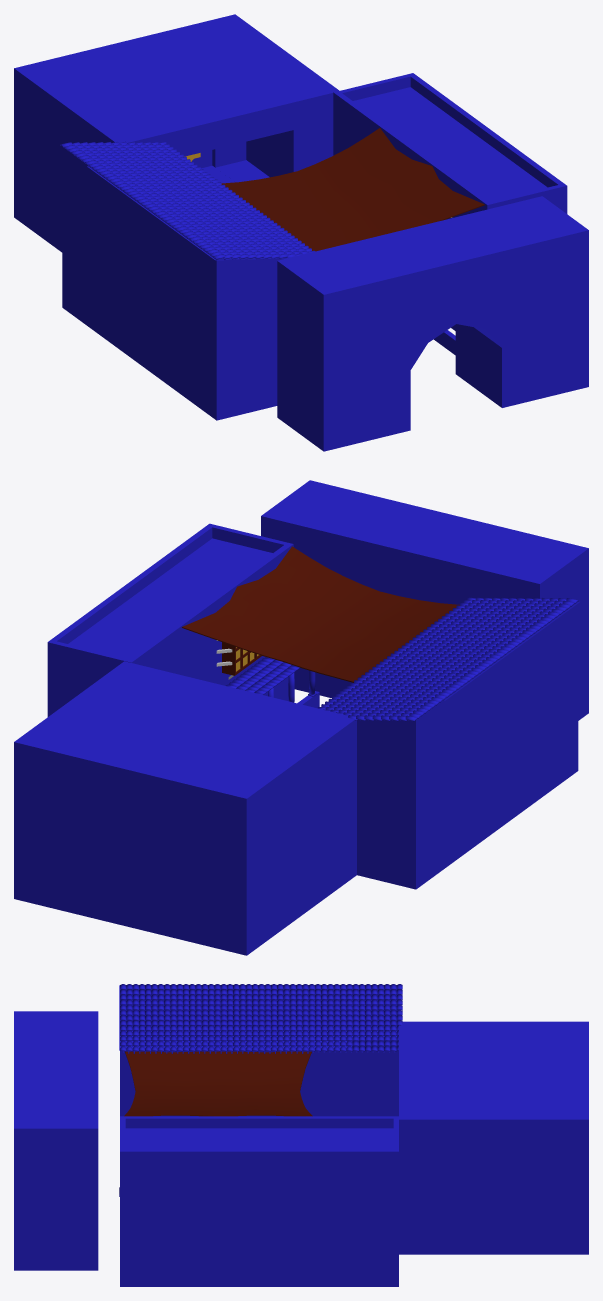
File: edificio+escenario.obj
3 views of the same model, one above another, from view 1: azimuth 30°, elevation 25°; view 2: azimuth 150°, elevation 25°; view 3: azimuth 270°, elevation 25° (orthographic). The views are drawn at different scales.
Parts seen in each view (by area): view 1: Cube.012, Cube.004, Cube, Capota, Cube.006, Cube.003; view 2: Cube.004, Cube, Cube.012, Cube.006, Capota, Cube.003, Cube.007, Cube.021; view 3: Cube.006, Cube.004, Cube.012, Cube.003, Capota, Cube, Plane.
Part boxes in pixels (box(x1,y1,x2,y2)): Cube.012: box(277, 196, 588, 451); Cube.004: box(14, 14, 339, 252); Cube: box(62, 147, 287, 420); Capota: box(221, 128, 484, 251); Cube.006: box(333, 73, 567, 330); Cube.003: box(60, 141, 314, 259); Cube.004: box(14, 661, 356, 955); Cube: box(357, 601, 578, 889); Cube.012: box(261, 480, 588, 720); Cube.006: box(47, 523, 293, 716); Capota: box(182, 546, 459, 682); Cube.003: box(317, 597, 578, 721); Cube.007: box(226, 657, 300, 694); Cube.021: box(216, 640, 261, 679); Cube.006: box(120, 1116, 398, 1286); Cube.004: box(399, 1021, 588, 1254); Cube.012: box(14, 1011, 98, 1270); Cube.003: box(120, 984, 402, 1051); Capota: box(124, 1051, 312, 1116); Cube: box(120, 989, 398, 1116); Plane: box(119, 985, 351, 1050).
Bounding box in the file's own units: 77.73 × 34.36 × 121.
